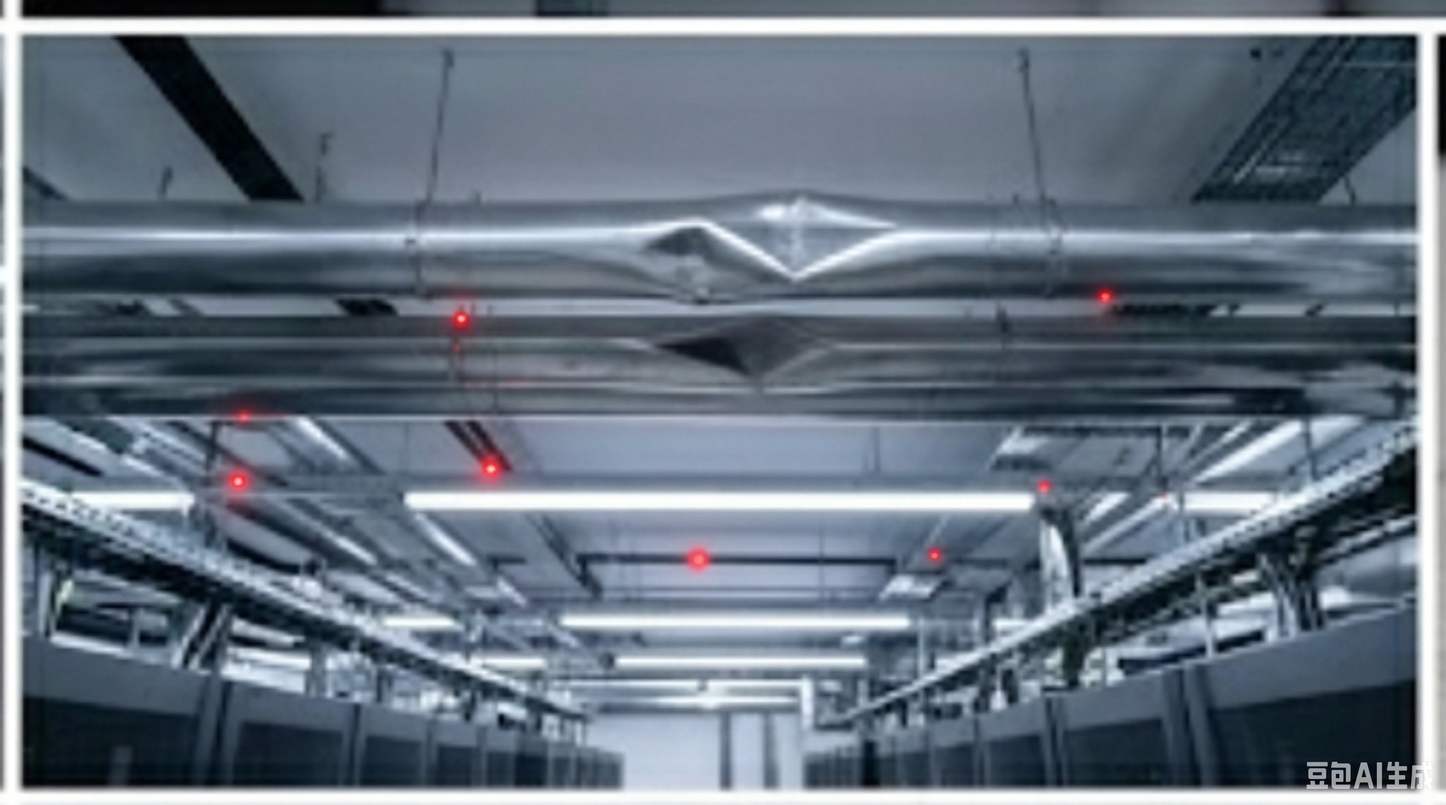Leakage: (693, 191, 934, 277), (650, 322, 869, 394), (630, 224, 786, 305)
